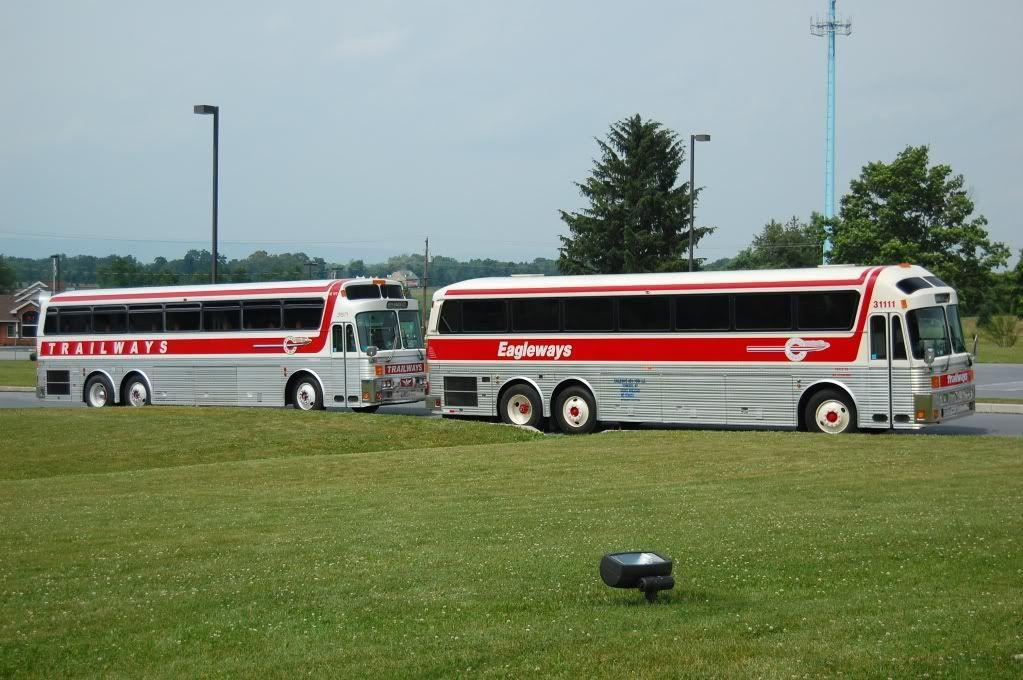Bus: (423, 265, 978, 437), (32, 279, 423, 412)
